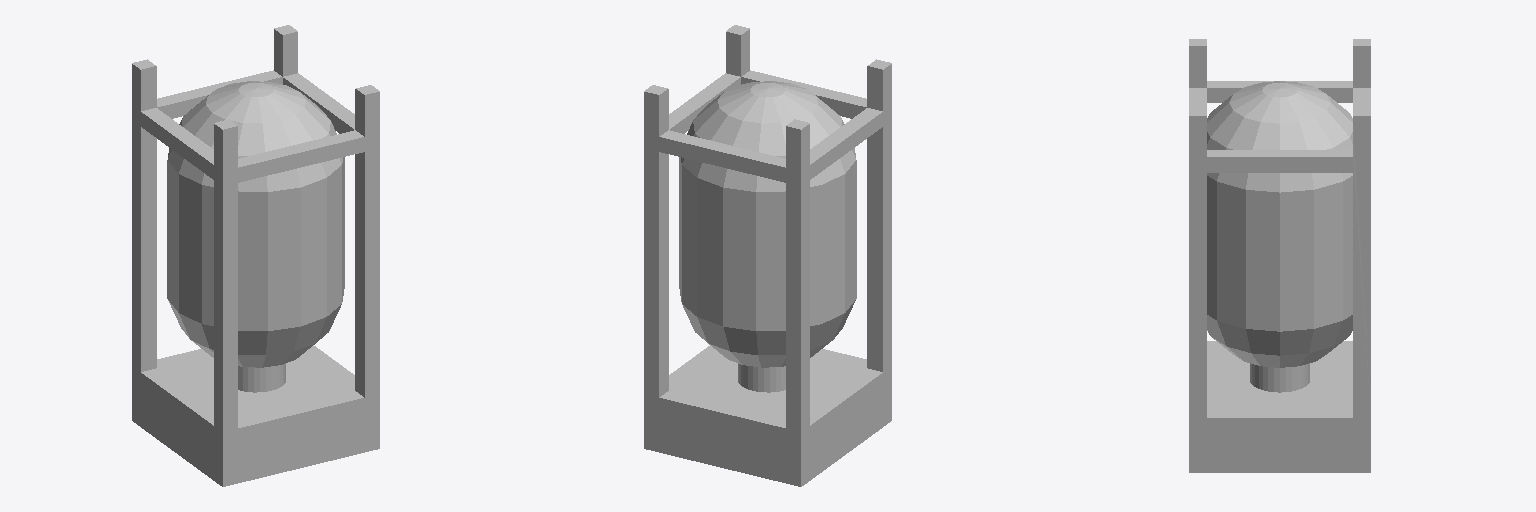
Rendered from milker.obj.
The picture shows the model from 3 angles: view 1: azimuth 30°, elevation 25°; view 2: azimuth 150°, elevation 25°; view 3: azimuth 270°, elevation 25°; orthographic projection.
Parts seen in each view (by area): view 1: Cube.001; view 2: Cube.001; view 3: Cube.001.
Part boxes in pixels (x1,y1,x2,y2): Cube.001: (132, 25, 379, 486); Cube.001: (644, 25, 891, 486); Cube.001: (1189, 39, 1370, 472).
Bounding box in the file's own units: 3 × 6.5 × 3.